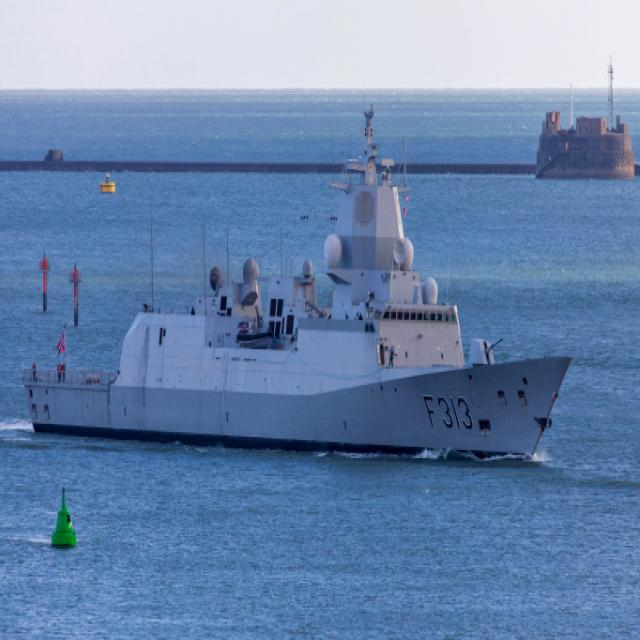Fragata: (24, 87, 578, 469)
